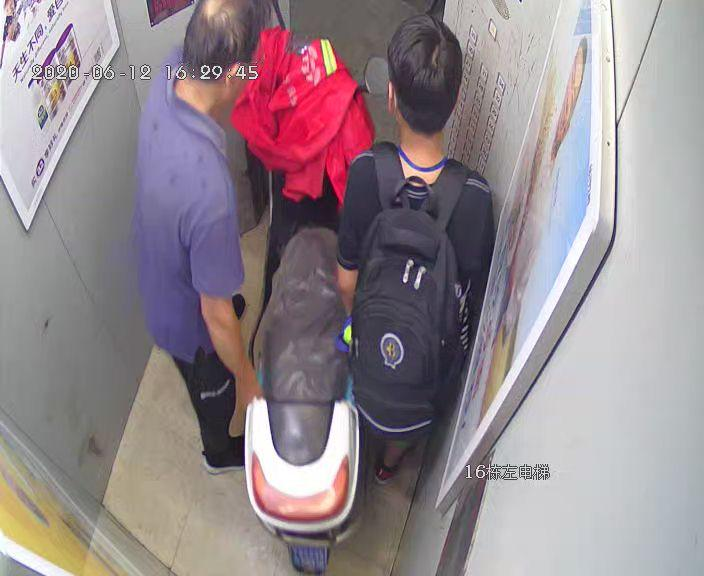Electric-bicycle: (241, 34, 386, 569)
